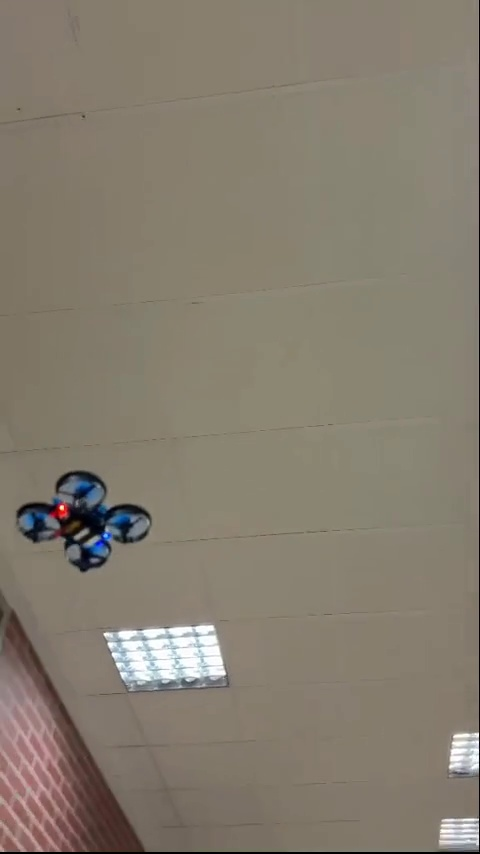drone: (18, 469, 152, 569)
